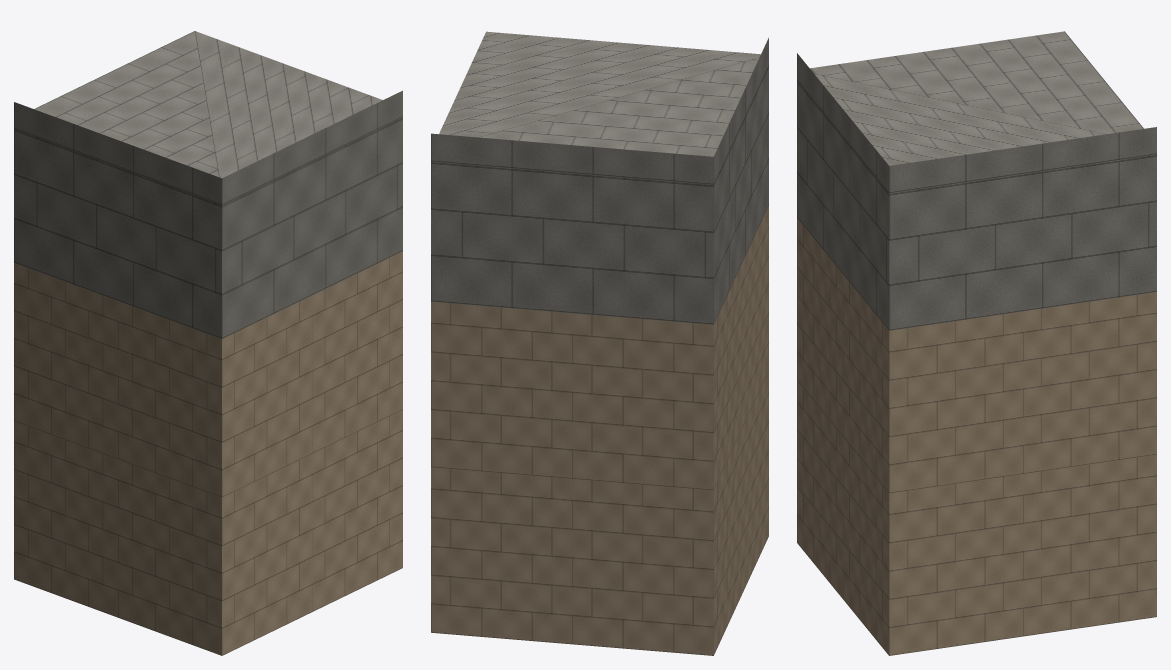
The model's file is bld_c16_28_381.gltf.
The picture shows the model from 3 angles, left to right: view 1: azimuth 30°, elevation 25°; view 2: azimuth 150°, elevation 25°; view 3: azimuth 270°, elevation 25°; orthographic projection. The views are drawn at different scales.
Visible parts, largest first — view 1: bld_c16_28_381; view 2: bld_c16_28_381; view 3: bld_c16_28_381.
Boxes of the visible parts, x1,y1,x2,y2 form: bld_c16_28_381: (14,31,402,655); bld_c16_28_381: (431,31,768,655); bld_c16_28_381: (797,31,1156,655).
Bounding box in the file's own units: 4.51 × 6.78 × 4.51.
Materials: 4 (4 with a texture image).
